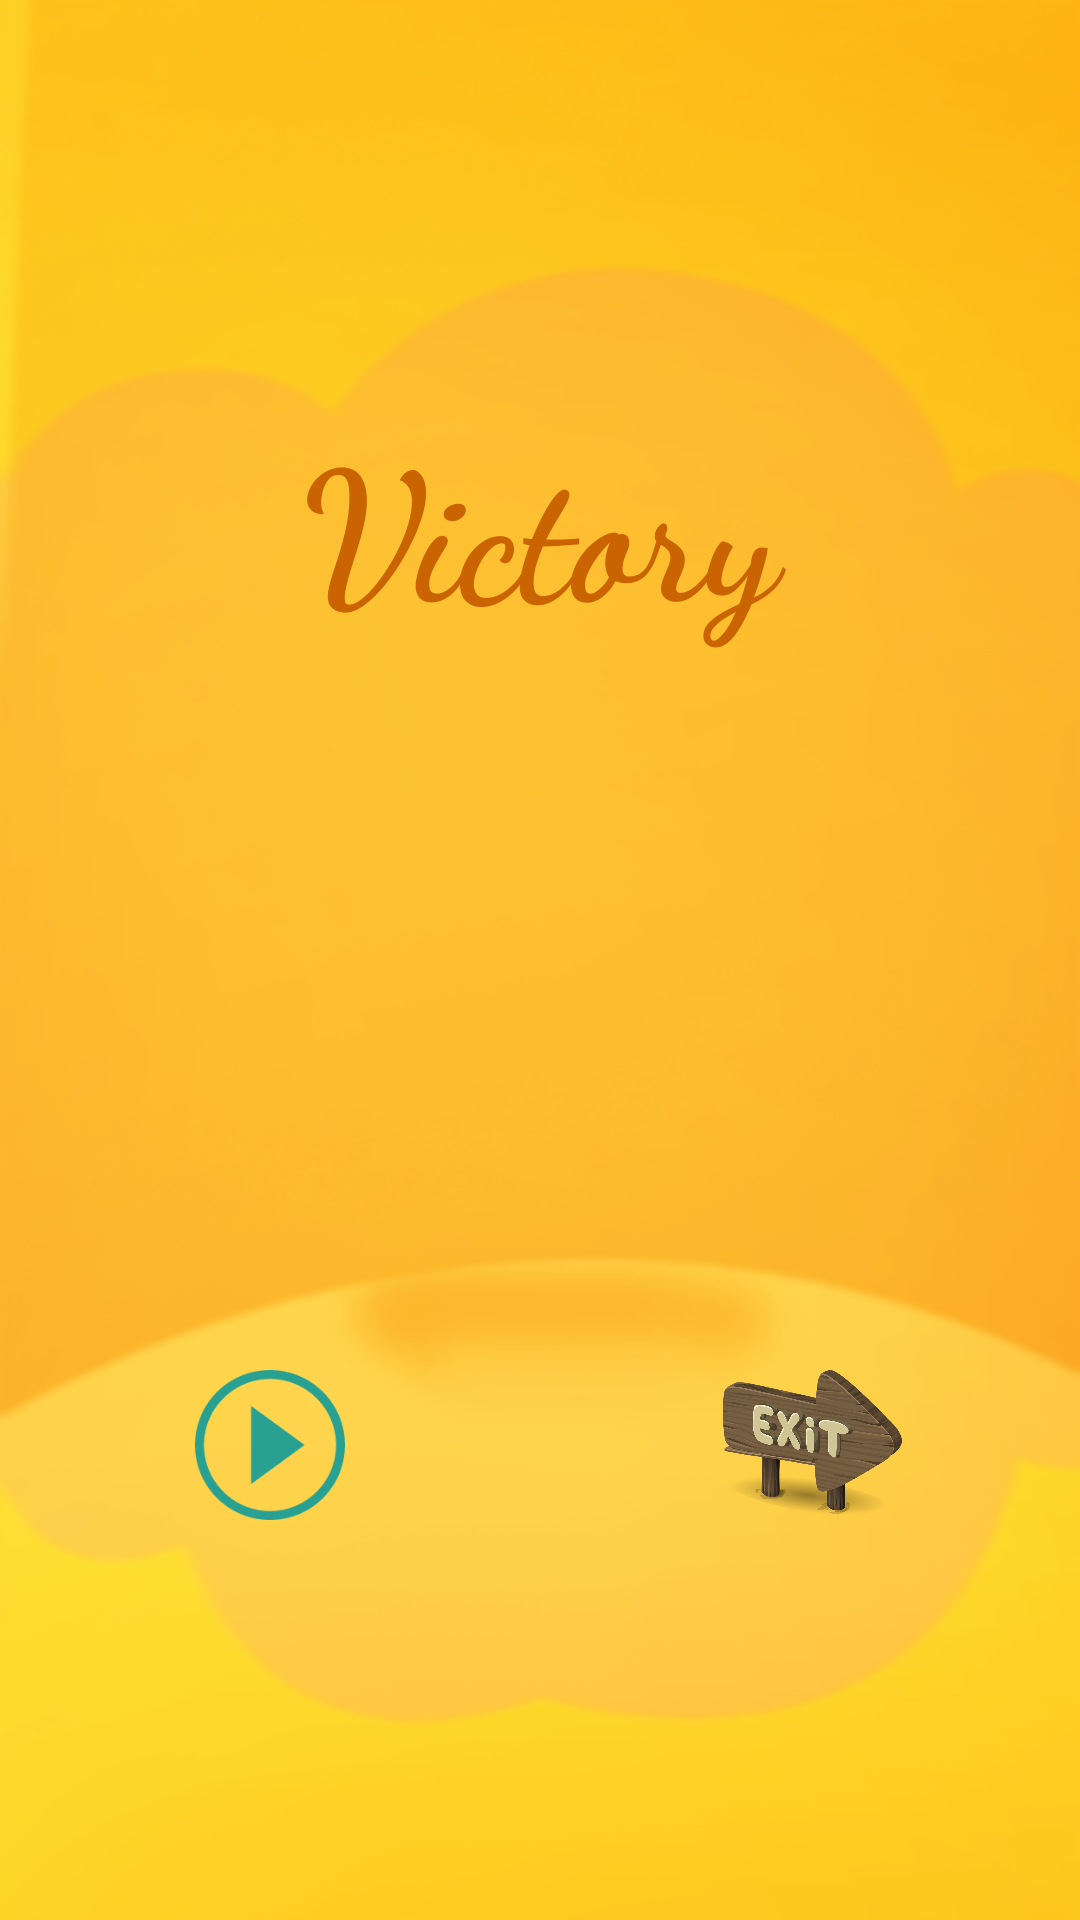

Icons on this 1080×1920 Android screen, each with its box as (x1, y1, x2, y2):
continue: (195, 1370, 345, 1520)
